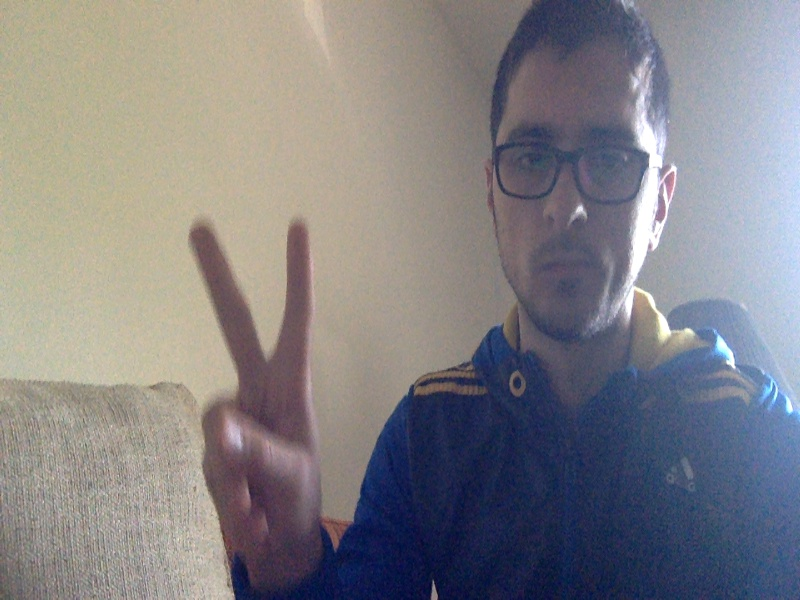2-hand: (186, 215, 313, 567)
